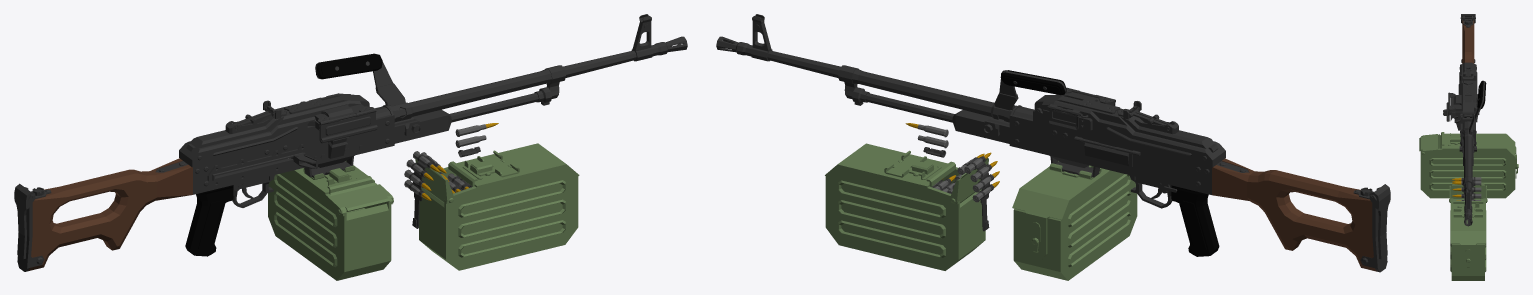
File: pkm.fbx
3 renders of one model, left to right at view 1: azimuth 30°, elevation 25°; view 2: azimuth 150°, elevation 25°; view 3: azimuth 270°, elevation 25°, orthographic. The views are drawn at different scales.
Parts seen in each view (by area): view 1: gun, box.001, box, upper, shutterb, shutter, shutterb.001, muzzle; view 2: gun, box.001, box, upper, shutter3, shutterb.001, shutter2, muzzle; view 3: box, box.001, gun, upper, shutterb, shutterb.001, muzzle, ammo.003, shutter, ammo.004, ammo.005.
Part boxes in pixels (box(x1,y1,x2,y2)): gun: box(14, 14, 653, 271); box.001: box(419, 143, 579, 270); box: box(268, 161, 392, 280); upper: box(179, 93, 376, 167); shutterb: box(327, 182, 393, 215); shutter: box(319, 110, 377, 143); shutterb.001: box(415, 159, 454, 204); muzzle: box(651, 36, 687, 56); gun: box(750, 14, 1390, 272); box.001: box(825, 143, 985, 270); box: box(1012, 161, 1137, 280); upper: box(1034, 87, 1225, 167); shutter3: box(1081, 138, 1132, 169); shutterb.001: box(949, 158, 988, 204); shutter2: box(1049, 106, 1078, 129); muzzle: box(716, 36, 752, 56); box: box(1420, 132, 1518, 198); box.001: box(1450, 198, 1486, 280); gun: box(1450, 14, 1486, 212); upper: box(1448, 62, 1477, 117); shutterb: box(1419, 134, 1439, 155); shutterb.001: box(1449, 183, 1487, 202); muzzle: box(1464, 209, 1472, 226); ammo.003: box(1452, 192, 1481, 199); shutter: box(1446, 95, 1450, 121); ammo.004: box(1452, 186, 1481, 192); ammo.005: box(1452, 180, 1481, 185).
Bounding box in the file's own units: 128 × 39.92 × 26.8.
